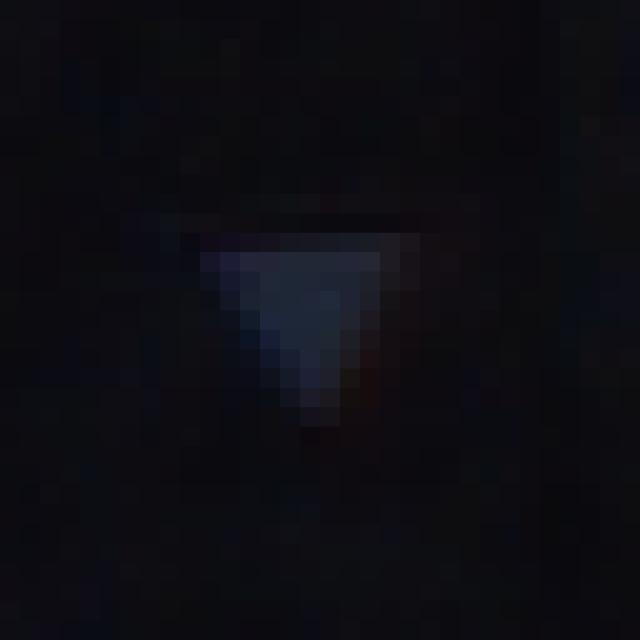Give Way: (101, 117, 541, 544)
